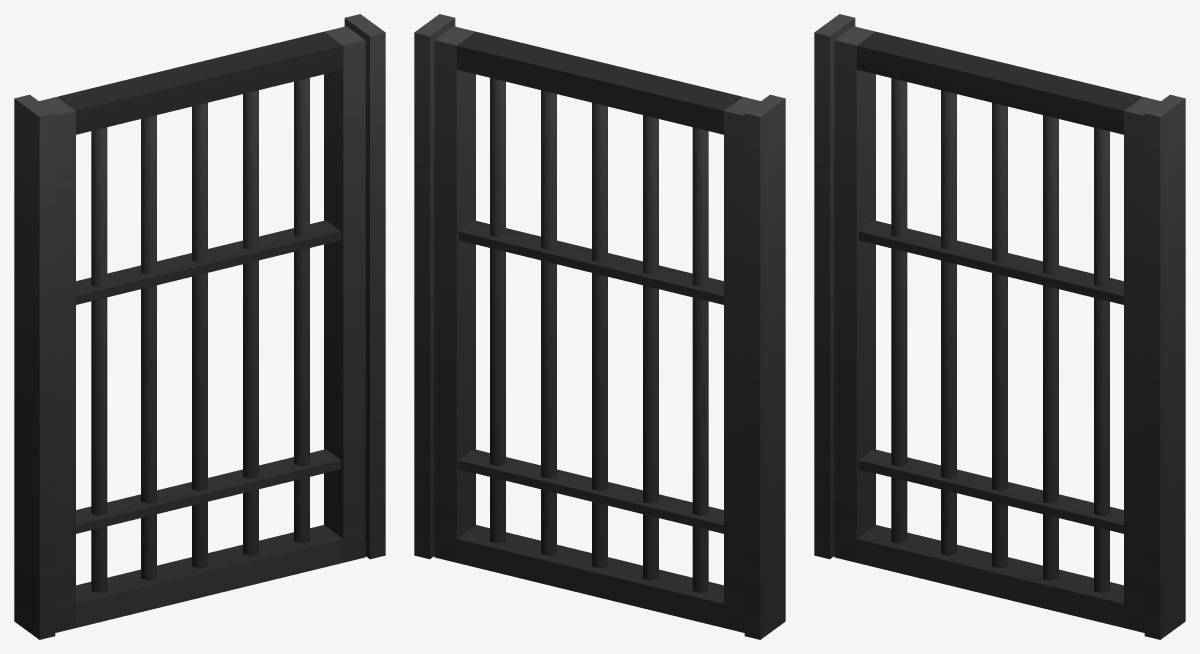
File: door.fbx
3 views of the same model, side by side, from view 1: azimuth 30°, elevation 25°; view 2: azimuth 150°, elevation 25°; view 3: azimuth 330°, elevation 25° (orthographic).
Visible parts, largest first — view 1: door_swing, door; view 2: door_swing, door; view 3: door_swing, door.
Part boxes in pixels (<box>): door_swing: <box>39,26,365,632</box>; door: <box>14,14,385,639</box>; door_swing: <box>434,26,760,632</box>; door: <box>414,14,785,639</box>; door_swing: <box>834,26,1160,632</box>; door: <box>814,14,1185,639</box>.
Bounding box in the file's own units: 2.04 × 2.94 × 0.2592.
Materials: 1 (1 with a texture image).
